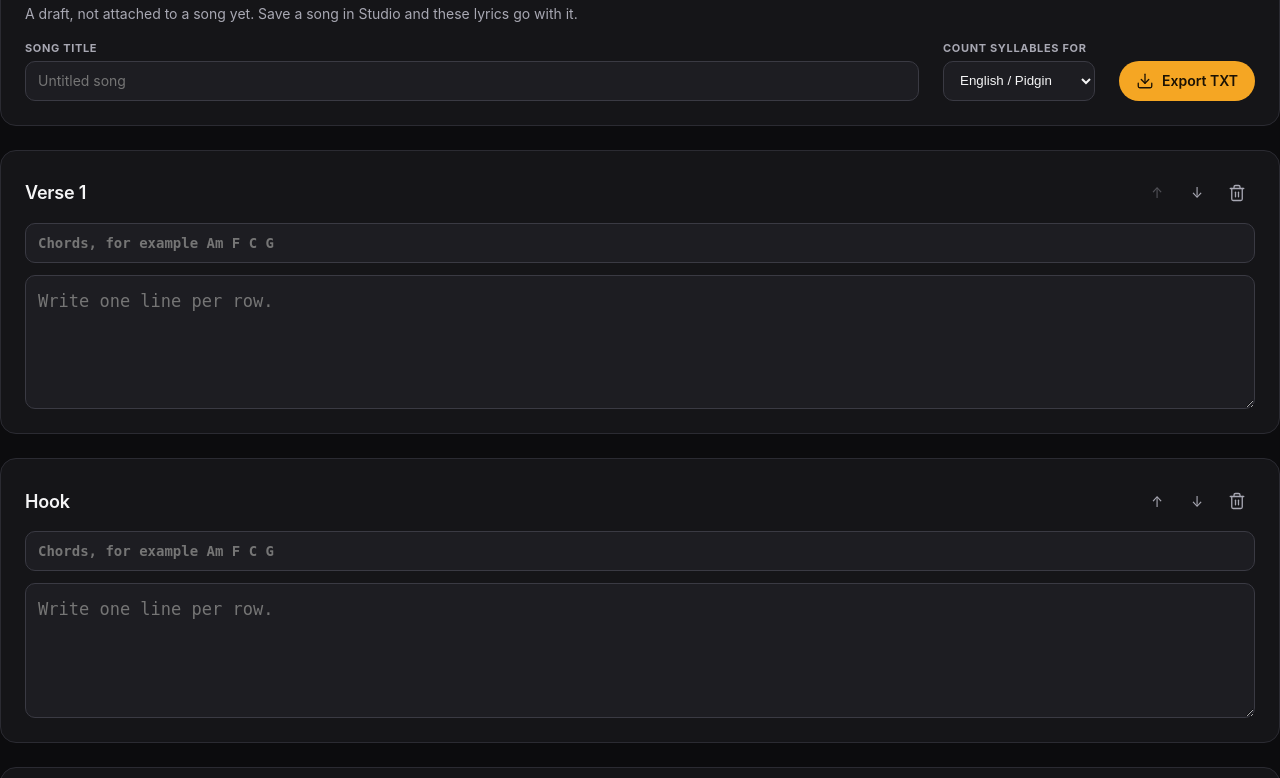
Scenario: Lyrics panel › the rhyme finder suggests words from your lyrics and a built-in list
The image size is (1280, 778).
Type "a bright light" into the text box named "Verse 1 lyrics" at (640, 342), box [25, 274, 1255, 409]
(page scrolled)
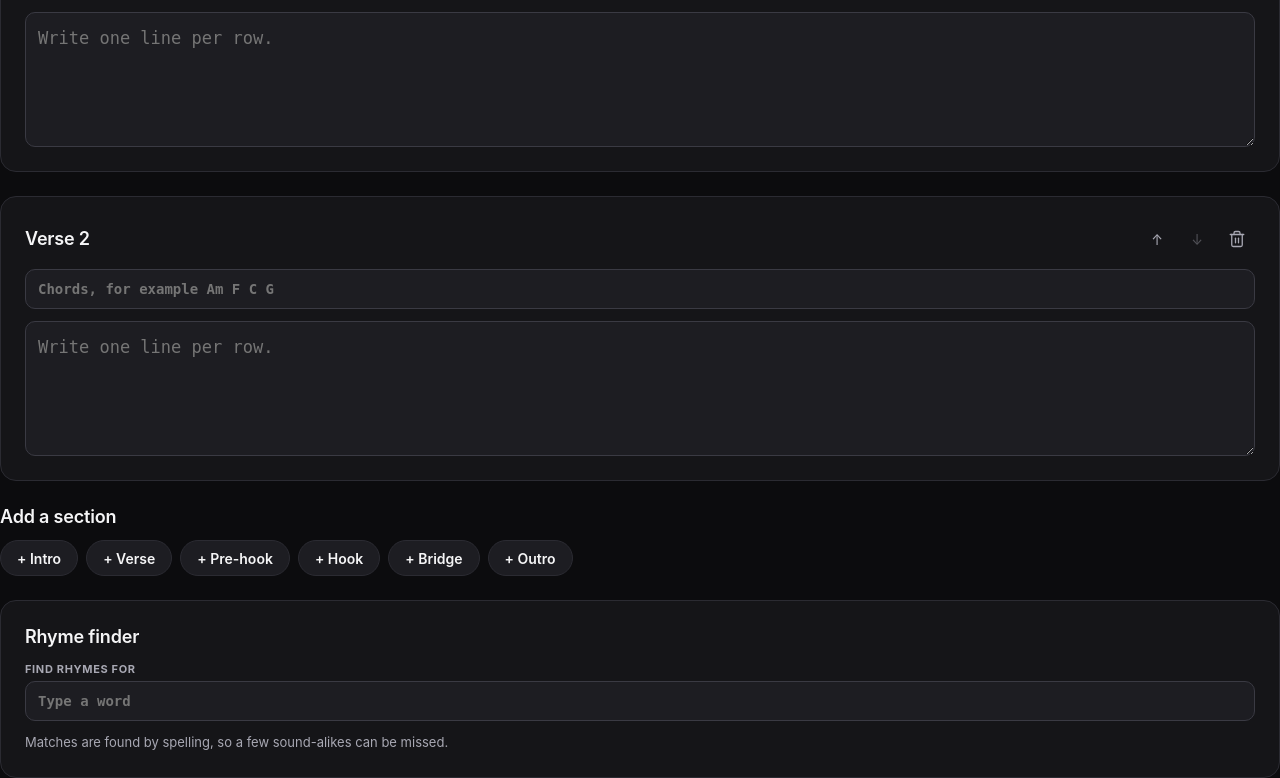
Type "night" into the field labelled "Find rhymes for" at (640, 701), box [25, 681, 1255, 721]
(page scrolled)
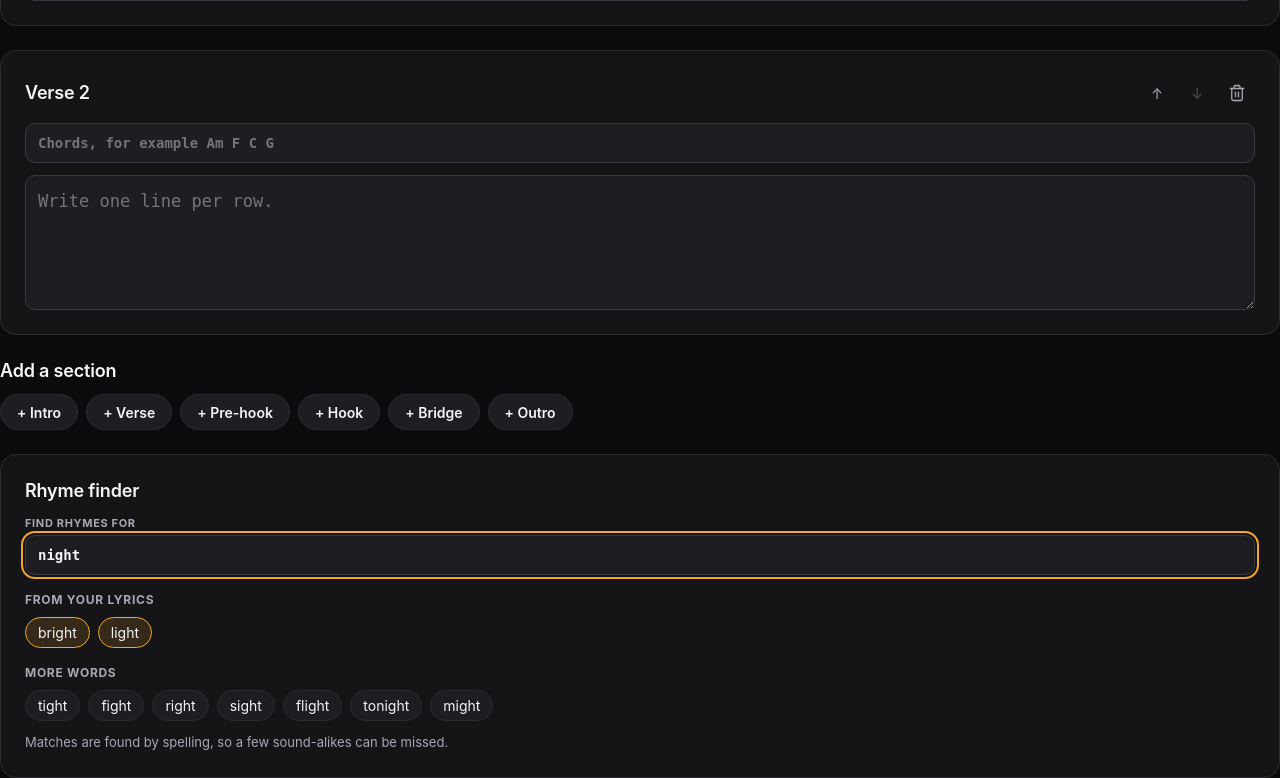
Expected: the list item "light" is shown, [98, 617, 152, 648]
Expected: the list item "tonight" is shown, [350, 690, 422, 721]
